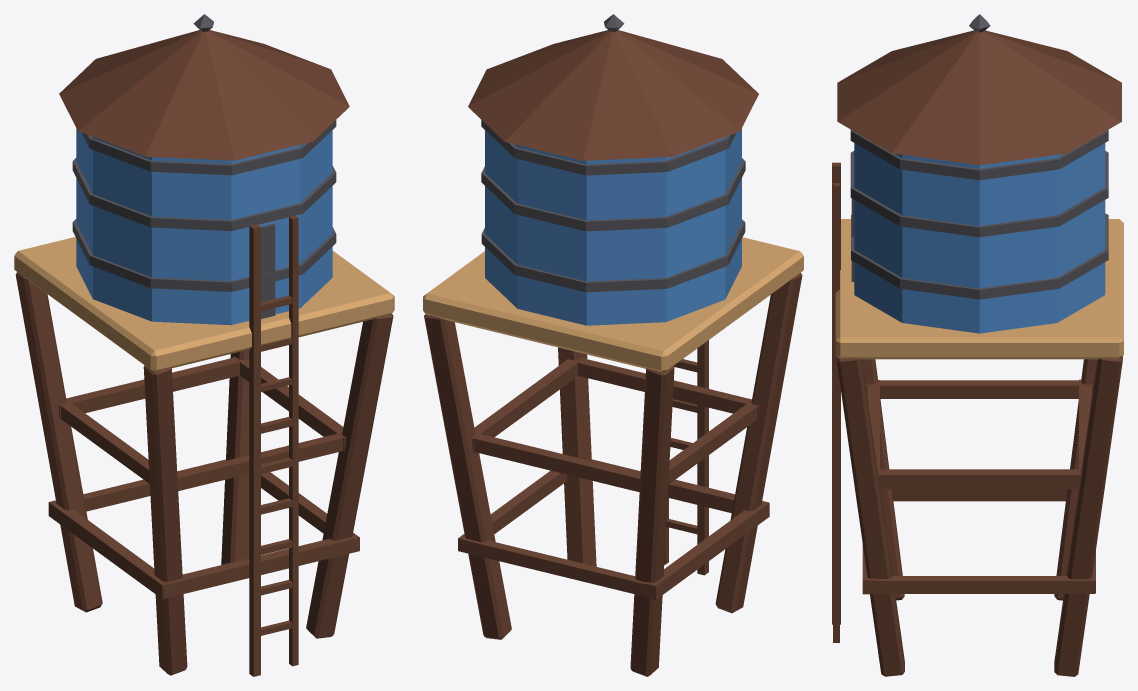
File: Water_Tower.fbx
3 views of the same model, side by side, from view 1: azimuth 30°, elevation 25°; view 2: azimuth 150°, elevation 25°; view 3: azimuth 270°, elevation 25° (orthographic). The views are drawn at different scales.
Visible parts, largest first — view 1: Water_Tower; view 2: Water_Tower; view 3: Water_Tower.
Part boxes in pixels (box(x1,y1,x2,y2)): Water_Tower: box(14, 14, 394, 676); Water_Tower: box(423, 14, 803, 676); Water_Tower: box(832, 14, 1123, 676).
Size of the model in its own units: 2.61 by 6 by 2.55.
